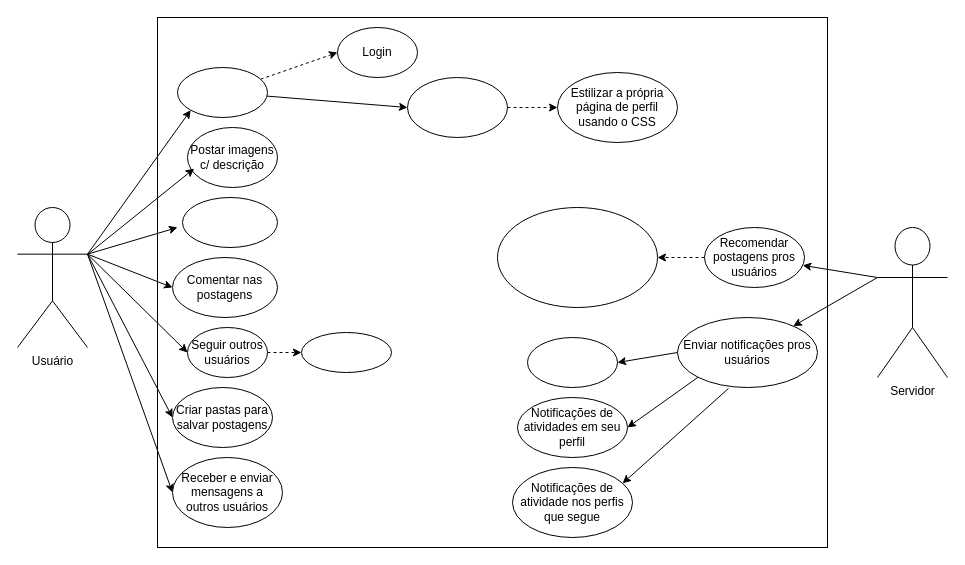
Image size: 965x565. Some labels were removed from this diagram. Here are the shapes that lost their labels. From the top down, the centre of each, then its label:
At pixel 222 92: "Conta".
At pixel 457 107: "Personalização do perfil".
At pixel 230 222: "Dar like nas postagens".
At pixel 577 257: "Filtros para censurar postagens que o usuário não queira ver".
At pixel 346 352: "Ter seguidores".
At pixel 572 362: "notificações de eventos".
